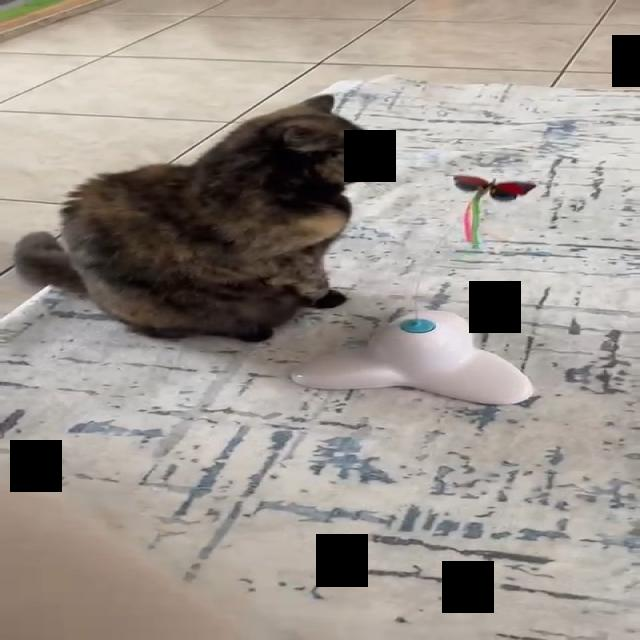authorized: (12, 92, 379, 342)
